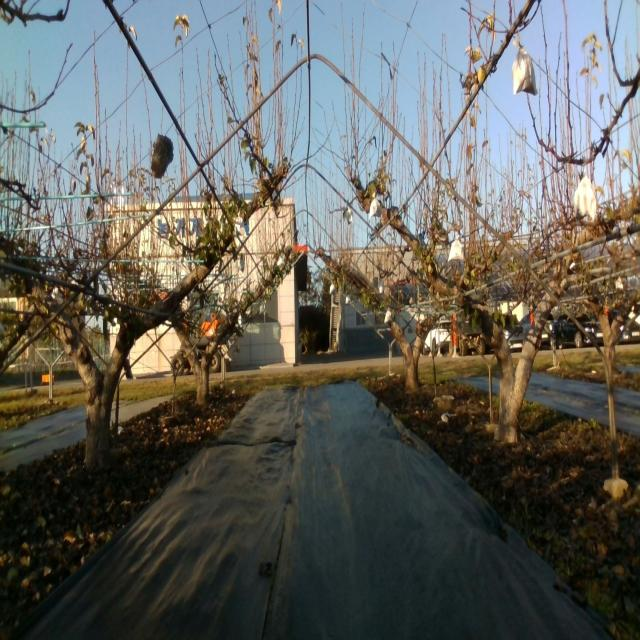pearbags: (511, 34, 536, 95), (574, 178, 598, 225), (448, 235, 467, 263), (368, 192, 382, 217), (234, 212, 247, 236)
